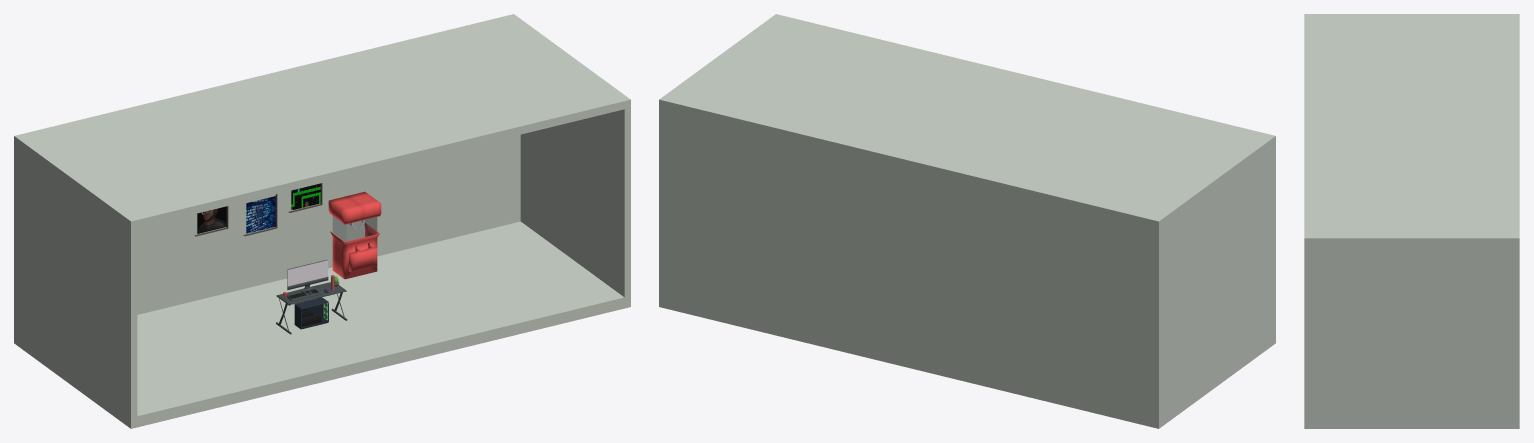
Rendered from portfolio-transformed.glb.
3 views of the same model, side by side, from view 1: azimuth 30°, elevation 25°; view 2: azimuth 150°, elevation 25°; view 3: azimuth 270°, elevation 25° (orthographic). The views are drawn at different scales.
Parts seen in each view (by area): view 1: Room, ArcadeCabinet, Painting.001, GlassCabinet, Painting, Painting.002, PC, Screen; view 2: Room; view 3: Room.
Boxes of the visible parts, box(x1,y1,x2,y2) form: Room: box(14, 14, 630, 428); ArcadeCabinet: box(328, 191, 381, 279); Painting.001: box(243, 194, 277, 236); GlassCabinet: box(333, 216, 377, 241); Painting: box(194, 206, 228, 236); Painting.002: box(288, 183, 322, 212); PC: box(294, 297, 328, 329); Screen: box(287, 260, 327, 286); Room: box(659, 14, 1275, 428); Room: box(1304, 14, 1519, 428).
Bounding box in the file's own units: 175 × 69.26 × 70.79.
Materials: 7 (7 with a texture image).
